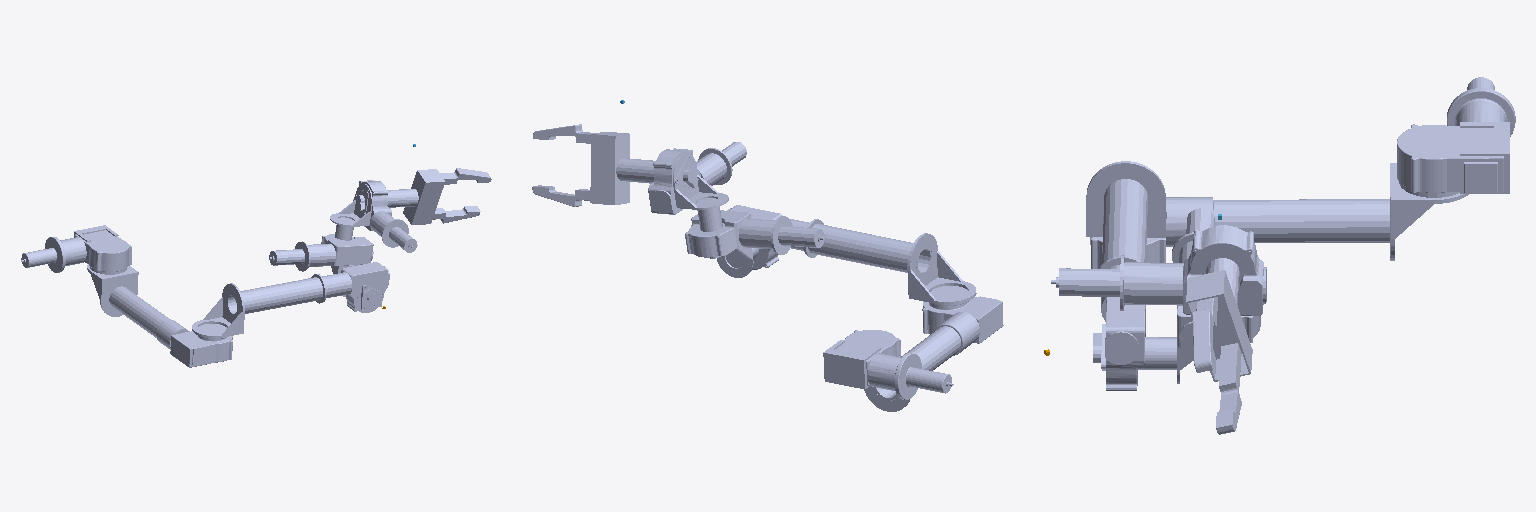
URDF robot description (robotic_arm_20):
<?xml version="1.0" encoding="utf-8"?>
<!-- This URDF was automatically created by SolidWorks to URDF Exporter! Originally created by [author] ([email redacted]) 
     Commit Version: 1.5.1-0-g916b5db  Build Version: 1.5.7152.31018
     For more information, please see http://wiki.ros.org/sw_urdf_exporter -->
<robot
  name="robotic_arm_20">


<link name="world">
  </link>

  <joint 
    name="anchor_joint" 
    type="fixed" >
    <origin
      xyz="0 0 0"
      rpy="0 0 0" />
    <parent
      link="world" />
    <child
      link="base_link" />
  </joint>


  <link
    name="base_link">
    <inertial>
      <origin
        xyz="-0.177929578846649 -0.0448189521284696 -0.0563071745028226"
        rpy="0 0 0" />
      <mass
        value="50.1678933296425" />
      <inertia
        ixx="0.679327306428932"
        ixy="0.0293256929053026"
        ixz="-0.00318310326897868"
        iyy="1.25815561049278"
        iyz="0.00364884485504393"
        izz="0.867671912930066" />
    </inertial>
    <visual>
      <origin
        xyz="0 0 0"
        rpy="0 0 0" />
      <geometry>
        
      </geometry>
      <material
        name="">
        <color
          rgba="0.792156862745098 0.819607843137255 0.933333333333333 1" />
      </material>
    </visual>
    <collision>
      <origin
        xyz="0 0 0"
        rpy="0 0 0" />
      <geometry>
        <mesh
          filename="package://robotic_arm_20/meshes/base_link.STL" />
      </geometry>
    </collision>
  </link>
  <link
    name="link_1">
    <inertial>
      <origin
        xyz="0.0307735798009799 0.00183857878904144 0.05776302399739"
        rpy="0 0 0" />
      <mass
        value="0.706717645435088" />
      <inertia
        ixx="0.000829923312483749"
        ixy="2.51330148592796E-05"
        ixz="0.000448748199767411"
        iyy="0.00249579785061569"
        iyz="-1.53388435428423E-05"
        izz="0.00194089524455759" />
    </inertial>
    <visual>
      <origin
        xyz="0 0 0"
        rpy="0 0 0" />
      <geometry>
        <mesh
          filename="package://robotic_arm_20/meshes/link_1.STL" />
      </geometry>
      <material
        name="">
        <color
          rgba="0.792156862745098 0.819607843137255 0.933333333333333 1" />
      </material>
    </visual>
    <collision>
      <origin
        xyz="0 0 0"
        rpy="0 0 0" />
      <geometry>
        <mesh
          filename="package://robotic_arm_20/meshes/link_1.STL" />
      </geometry>
    </collision>
  </link>
  <joint
    name="joint_1"
    type="revolute">
    <origin
      xyz="0.034365 -0.24 -0.05911"
      rpy="-1.5708 -0.018138 3.1416" />
    <parent
      link="base_link" />
    <child
      link="link_1" />
    <axis
      xyz="0 0 1" />
    <limit
      lower="-3.14"
      upper="3.14"
      effort="200"
      velocity="20" />
  </joint>
  <link
    name="link_2">
    <inertial>
      <origin
        xyz="-0.275000735323264 -0.0186520124434141 -0.0428718953735277"
        rpy="0 0 0" />
      <mass
        value="0.857612899011877" />
      <inertia
        ixx="0.00100323353146624"
        ixy="-0.000408353362085675"
        ixz="-8.56766894490009E-06"
        iyy="0.00224878114790486"
        iyz="3.51573343165913E-05"
        izz="0.00281118351188428" />
    </inertial>
    <visual>
      <origin
        xyz="0 0 0"
        rpy="0 0 0" />
      <geometry>
        <mesh
          filename="package://robotic_arm_20/meshes/link_2.STL" />
      </geometry>
      <material
        name="">
        <color
          rgba="0.792156862745098 0.819607843137255 0.933333333333333 1" />
      </material>
    </visual>
    <collision>
      <origin
        xyz="0 0 0"
        rpy="0 0 0" />
      <geometry>
        <mesh
          filename="package://robotic_arm_20/meshes/link_2.STL" />
      </geometry>
    </collision>
  </link>
  <joint
    name="joint_2"
    type="revolute">
    <origin
      xyz="0.0017236 0.034965 0.092"
      rpy="1.5708 1.5598 -0.029257" />
    <parent
      link="link_1" />
    <child
      link="link_2" />
    <axis
      xyz="0 0 1" />
    <limit
      lower="-3.14"
      upper="3.14"
      effort="200"
      velocity="20" />
  </joint>
  <link
    name="link_3">
    <inertial>
      <origin
        xyz="0.245107194518098 0.00458456239654748 0.036941945711721"
        rpy="0 0 0" />
      <mass
        value="0.558171663713875" />
      <inertia
        ixx="0.000351728751566333"
        ixy="-2.87478582511683E-05"
        ixz="6.0157925189992E-05"
        iyy="0.00184746071997954"
        iyz="-1.33660990163985E-05"
        izz="0.00182740315351891" />
    </inertial>
    <visual>
      <origin
        xyz="0 0 0"
        rpy="0 0 0" />
      <geometry>
        <mesh
          filename="package://robotic_arm_20/meshes/link_3.STL" />
      </geometry>
      <material
        name="">
        <color
          rgba="0.792156862745098 0.819607843137255 0.933333333333333 1" />
      </material>
    </visual>
    <collision>
      <origin
        xyz="0 0 0"
        rpy="0 0 0" />
      <geometry>
        <mesh
          filename="package://robotic_arm_20/meshes/link_3.STL" />
      </geometry>
    </collision>
  </link>
  <joint
    name="joint_3"
    type="revolute">
    <origin
      xyz="-0.3487 -0.052216 -0.0059238"
      rpy="3.9244E-05 -0.0014578 -1.5977" />
    <parent
      link="link_2" />
    <child
      link="link_3" />
    <axis
      xyz="0 0 1" />
    <limit
      lower="-3.14"
      upper="3.14"
      effort="200"
      velocity="20" />
  </joint>
  <link
    name="link_4">
    <inertial>
      <origin
        xyz="0.0595782374335066 -0.0499503106347304 0.0282692952427614"
        rpy="0 0 0" />
      <mass
        value="0.394030662704721" />
      <inertia
        ixx="0.00128765152266412"
        ixy="-2.86014297635847E-05"
        ixz="7.39637604307696E-06"
        iyy="0.000207774992497037"
        iyz="-7.85862478687544E-05"
        izz="0.00124757601622805" />
    </inertial>
    <visual>
      <origin
        xyz="0 0 0"
        rpy="0 0 0" />
      <geometry>
        <mesh
          filename="package://robotic_arm_20/meshes/link_4.STL" />
      </geometry>
      <material
        name="">
        <color
          rgba="0.792156862745098 0.819607843137255 0.933333333333333 1" />
      </material>
    </visual>
    <collision>
      <origin
        xyz="0 0 0"
        rpy="0 0 0" />
      <geometry>
        <mesh
          filename="package://robotic_arm_20/meshes/link_4.STL" />
      </geometry>
    </collision>
  </link>
  <joint
    name="joint_4"
    type="revolute">
    <origin
      xyz="0.3685 0.066058 0.014123"
      rpy="-1.5553 -1.4503 -0.015391" />
    <parent
      link="link_3" />
    <child
      link="link_4" />
    <axis
      xyz="0 0 1" />
    <limit
      lower="-3.14"
      upper="3.14"
      effort="200"
      velocity="20" />
  </joint>
  <link
    name="link_5">
    <inertial>
      <origin
        xyz="0.0591496535173698 -0.0543079017830739 -0.0148179652309395"
        rpy="0 0 0" />
      <mass
        value="0.332748424915082" />
      <inertia
        ixx="0.000184469559835572"
        ixy="-2.86014298659074E-05"
        ixz="-7.85862495536235E-05"
        iyy="0.00126974017331582"
        iyz="8.59066300995905E-06"
        izz="0.00122587723171109" />
    </inertial>
    <visual>
      <origin
        xyz="0 0 0"
        rpy="0 0 0" />
      <geometry>
        <mesh
          filename="package://robotic_arm_20/meshes/link_5.STL" />
      </geometry>
      <material
        name="">
        <color
          rgba="0.792156862745098 0.819607843137255 0.933333333333333 1" />
      </material>
    </visual>
    <collision>
      <origin
        xyz="0 0 0"
        rpy="0 0 0" />
      <geometry>
        <mesh
          filename="package://robotic_arm_20/meshes/link_5.STL" />
      </geometry>
    </collision>
  </link>
  <joint
    name="joint_5"
    type="revolute">
    <origin
      xyz="0.1215 0 0.052"
      rpy="1.5708 1.5496 -1.5708" />
    <parent
      link="link_4" />
    <child
      link="link_5" />
    <axis
      xyz="0 0 1" />
    <limit
      lower="-3.14"
      upper="3.14"
      effort="200"
      velocity="20" />
  </joint>
  <link
    name="link_6">
    <inertial>
      <origin
        xyz="-7.8826E-15 1.1685E-14 -0.10675"
        rpy="0 0 0" />
      <mass
        value="0.261" />
      <inertia
        ixx="0.00052088"
        ixy="-1.5785E-05"
        ixz="2.7529E-20"
        iyy="0.0004691"
        iyz="1.4298E-19"
        izz="0.00011568" />
    </inertial>
    <visual>
      <origin
        xyz="0 0 0"
        rpy="0 0 0" />
      <geometry>
        <mesh
          filename="package://robotic_arm_20/meshes/link_6.STL" />
      </geometry>
      <material
        name="">
        <color
          rgba="0.79216 0.81961 0.93333 1" />
      </material>
    </visual>
    <collision>
      <origin
        xyz="0 0 0"
        rpy="0 0 0" />
      <geometry>
        <mesh
          filename="package://robotic_arm_20/meshes/link_6.STL" />
      </geometry>
    </collision>
  </link>
  <joint
    name="joint_6"
    type="revolute">
    <origin
      xyz="0 -0.0685 -0.042"
      rpy="-1.5708 -0.0023982 0" />
    <parent
      link="link_5" />
    <child
      link="link_6" />
    <axis
      xyz="0 0 1" />
    <limit
      lower="-3.14"
      upper="3.14"
      effort="200"
      velocity="20" />
  </joint>

  <transmission name="tran1">
    <type>transmission_interface/SimpleTransmission</type>
    <joint name="joint_1">
      <hardwareInterface>hardware_interface/EffortJointInterface</hardwareInterface>
    </joint>
    <actuator name="motor1">
      <hardwareInterface>hardware_interface/EffortJointInterface</hardwareInterface>
      <mechanicalReduction>1</mechanicalReduction>
    </actuator>
  </transmission>

  <transmission name="tran2">
    <type>transmission_interface/SimpleTransmission</type>
    <joint name="joint_2">
      <hardwareInterface>hardware_interface/EffortJointInterface</hardwareInterface>
    </joint>
    <actuator name="motor2">
      <hardwareInterface>hardware_interface/EffortJointInterface</hardwareInterface>
      <mechanicalReduction>1</mechanicalReduction>
    </actuator>
  </transmission>

  <transmission name="tran3">
    <type>transmission_interface/SimpleTransmission</type>
    <joint name="joint_3">
      <hardwareInterface>hardware_interface/EffortJointInterface</hardwareInterface>
    </joint>
    <actuator name="motor3">
      <hardwareInterface>hardware_interface/EffortJointInterface</hardwareInterface>
      <mechanicalReduction>1</mechanicalReduction>
    </actuator>
  </transmission>

  <transmission name="tran4">
    <type>transmission_interface/SimpleTransmission</type>
    <joint name="joint_4">
      <hardwareInterface>hardware_interface/EffortJointInterface</hardwareInterface>
    </joint>
    <actuator name="motor4">
      <hardwareInterface>hardware_interface/EffortJointInterface</hardwareInterface>
      <mechanicalReduction>1</mechanicalReduction>
    </actuator>
  </transmission>

  <transmission name="tran5">
    <type>transmission_interface/SimpleTransmission</type>
    <joint name="joint_5">
      <hardwareInterface>hardware_interface/EffortJointInterface</hardwareInterface>
    </joint>
    <actuator name="motor5">
      <hardwareInterface>hardware_interface/EffortJointInterface</hardwareInterface>
      <mechanicalReduction>1</mechanicalReduction>
    </actuator>
  </transmission>

  <transmission name="tran6">
    <type>transmission_interface/SimpleTransmission</type>
    <joint name="joint_6">
      <hardwareInterface>hardware_interface/EffortJointInterface</hardwareInterface>
    </joint>
    <actuator name="motor6">
      <hardwareInterface>hardware_interface/EffortJointInterface</hardwareInterface>
      <mechanicalReduction>1</mechanicalReduction>
    </actuator>
  </transmission>

 <link name="camera">
    <collision>
      <origin xyz="0 0 0" rpy="0 0 0"/>
      <geometry>
        <box size="0.05 0.05 0.05"/>
      </geometry>
    </collision>

    <visual>
      <origin xyz="0 0 0" rpy="0 0 0"/>
      <geometry>
        <box size="0.005 0.005 0.005"/>
      </geometry>
      <material name="green"/>
    </visual>

    <inertial>
      <mass value="0.1" />
      <origin xyz="0 0 0" rpy="0 0 0"/>
      <box_inertia m="0.1" x="0.05" y="0.05" z="0.05" />
      <inertia ixx="1e-6" ixy="0" ixz="0" iyy="1e-6" iyz="0" izz="1e-6" />
    </inertial>
  </link>

  <joint name="camera_joint" type="fixed">
    <axis xyz="1 1 0" />
    <origin xyz="0 0 -0.15" rpy="3.14 -0.5 1.57"/>
    <parent link="link_4"/>
    <child link="camera"/>
  </joint>

<link name="camera2">
    <collision>
      <origin xyz="0 0 0" rpy="0 0 0"/>
      <geometry>
        <box size="0.05 0.05 0.05"/>
      </geometry>
    </collision>

    <visual>
      <origin xyz="0 0 0" rpy="0 0 0"/>
      <geometry>
        <box size="0.005 0.005 0.005"/>
      </geometry>
      <material name="green"/>
    </visual>

    <inertial>
      <mass value="0.1" />
      <origin xyz="0 0 0" rpy="0 0 0"/>
      <box_inertia m="0.1" x="0.05" y="0.05" z="0.05" />
      <inertia ixx="1e-6" ixy="0" ixz="0" iyy="1e-6" iyz="0" izz="1e-6" />
    </inertial>
  </link>

  <joint name="camera_joint2" type="fixed">
    <axis xyz="1 1 0" />
    <origin xyz="0 0.12 -0.07" rpy="0 1.57 0"/>
    <parent link="link_6"/>
    <child link="camera2"/>
  </joint>


   <gazebo>
    <plugin name="gazebo_ros_control" filename="libgazebo_ros_control.so">
  <robotSimType>gazebo_ros_control/DefaultRobotHWSim</robotSimType>
  <legacyModeNS>true</legacyModeNS>
    </plugin>
</gazebo>
	<gazebo reference="camera">
       <sensor type="camera" name="camera">
         <update_rate>30.0</update_rate>
         <camera name="camera">
           <horizontal_fov>1.3962634</horizontal_fov>
           <image>
             <width>800</width>
             <height>800</height>
             <format>R8G8B8</format>
           </image>
           <clip>
             <near>0.02</near>
             <far>300</far>
           </clip>
           <noise>
             <type>gaussian</type>
             <!-- Noise is sampled independently per pixel on each frame.
                  That pixel's noise value is added to each of its color
                  channels, which at that point lie in the range [0,1]. -->
             <mean>0.0</mean>
             <stddev>0.007</stddev>
           </noise>
         </camera>
         <plugin name="camera_controller" filename="libgazebo_ros_camera.so">
           <legacyModeNS>true</legacyModeNS>
           <alwaysOn>true</alwaysOn>
           <updateRate>0.0</updateRate>
           <cameraName>/mybot/camera</cameraName>
           <imageTopicName>camera_view</imageTopicName>
           <cameraInfoTopicName>camera_info</cameraInfoTopicName>
           <frameName>camera</frameName>
           <hackBaseline>0.07</hackBaseline>
           <distortionK1>0.0</distortionK1>
           <distortionK2>0.0</distortionK2>
           <distortionK3>0.0</distortionK3>
           <distortionT1>0.0</distortionT1>
           <distortionT2>0.0</distortionT2>
         </plugin>
       </sensor>
     </gazebo>


<gazebo reference="camera2">
       <sensor type="camera" name="camera2">
         <update_rate>30.0</update_rate>
         <camera name="camera2">
           <horizontal_fov>1.3962634</horizontal_fov>
           <image>
             <width>800</width>
             <height>800</height>
             <format>R8G8B8</format>
           </image>
           <clip>
             <near>0.02</near>
             <far>300</far>
           </clip>
           <noise>
             <type>gaussian</type>
             <!-- Noise is sampled independently per pixel on each frame.
                  That pixel's noise value is added to each of its color
                  channels, which at that point lie in the range [0,1]. -->
             <mean>0.0</mean>
             <stddev>0.007</stddev>
           </noise>
         </camera>
         <plugin name="camera2_controller" filename="libgazebo_ros_camera.so">
           <legacyModeNS>true</legacyModeNS>
           <alwaysOn>true</alwaysOn>
           <updateRate>0.0</updateRate>
           <cameraName>/mybot/camera2</cameraName>
           <imageTopicName>camera2_view</imageTopicName>
           <cameraInfoTopicName>camera2_info</cameraInfoTopicName>
           <frameName>camera2</frameName>
           <hackBaseline>0.07</hackBaseline>
           <distortionK1>0.0</distortionK1>
           <distortionK2>0.0</distortionK2>
           <distortionK3>0.0</distortionK3>
           <distortionT1>0.0</distortionT1>
           <distortionT2>0.0</distortionT2>
         </plugin>
       </sensor>
     </gazebo>
</robot>

--- What the picture shows (computed from the rendered views, not written in the file) ---
Views: 3 orthographic renders of the robot side by side, from view 1: azimuth 30°, elevation 25°; view 2: azimuth 150°, elevation 25°; view 3: azimuth 270°, elevation 25°.
Model robotic_arm_20 with 10 links and 9 joints (6 revolute, 3 fixed), rooted at world, posed every joint at zero.
Visible links, largest first — view 1: link_3, link_2, link_1, link_6, link_4, link_5; view 2: link_3, link_1, link_4, link_2, link_5, link_6; view 3: link_3, link_2, link_1, link_5, link_6, link_4.
Boxes of the visible links, x1,y1,x2,y2 form: link_3: (192, 262, 389, 337); link_2: (87, 264, 232, 367); link_1: (21, 225, 131, 274); link_6: (387, 168, 491, 224); link_4: (269, 217, 373, 296); link_5: (330, 180, 417, 252); link_3: (726, 205, 976, 304); link_1: (823, 330, 953, 399); link_4: (685, 198, 824, 277); link_2: (864, 286, 1003, 411); link_5: (648, 142, 746, 214); link_6: (532, 124, 655, 206); link_3: (1086, 161, 1176, 390); link_2: (1090, 163, 1468, 268); link_1: (1397, 77, 1515, 197); link_5: (1051, 225, 1266, 315); link_6: (1186, 254, 1252, 434); link_4: (1172, 208, 1260, 383).
Bounding box of the posed robot: 0.9676 × 0.5332 × 0.3381 m (x, y, z).
Meshes: 6 distinct files referenced, 6 mesh visuals loaded (6 binary STL).
